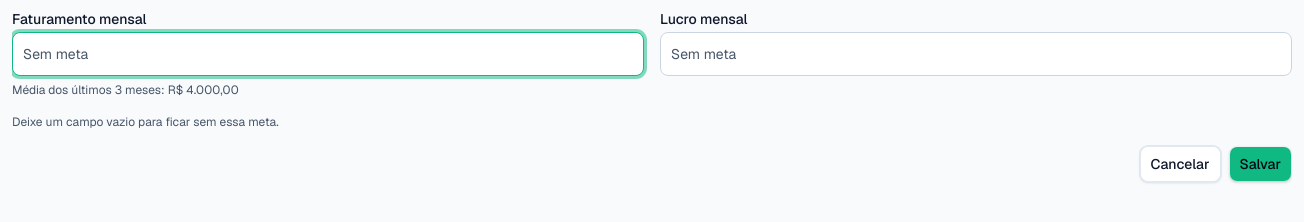
Test: IncomeGoalsForm › should speak of a value, not a limit, when a target is zero
In the field labelled "Faturamento mensal": (328, 54) x1=12 y1=32 x2=644 y2=76, type "0"
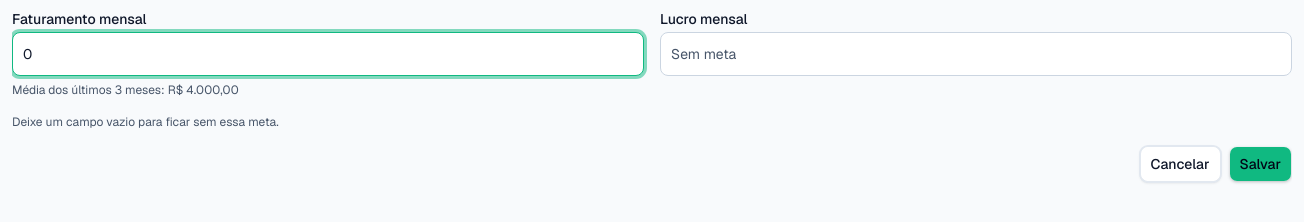
Click the button "Salvar": (1260, 164) x1=1228 y1=146 x2=1292 y2=182
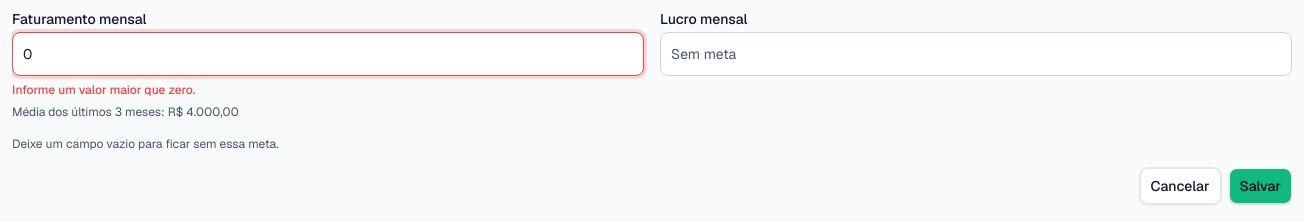
Now the text "Informe um valor maior que zero." is shown, box x1=12 y1=82 x2=195 y2=98
